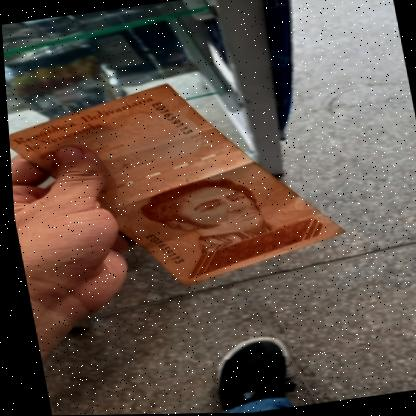vef_front: (3, 61, 349, 307)
